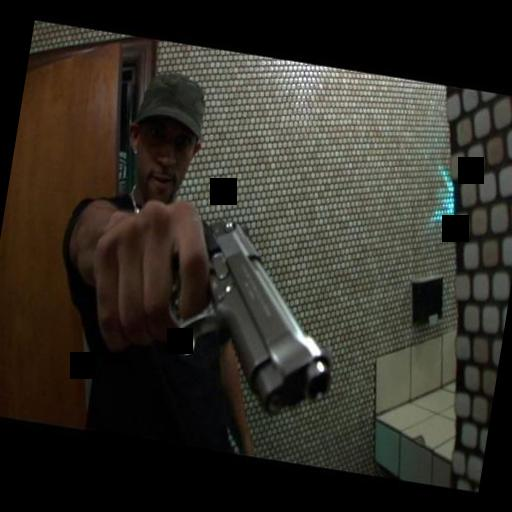Handgun: (86, 194, 353, 412)
